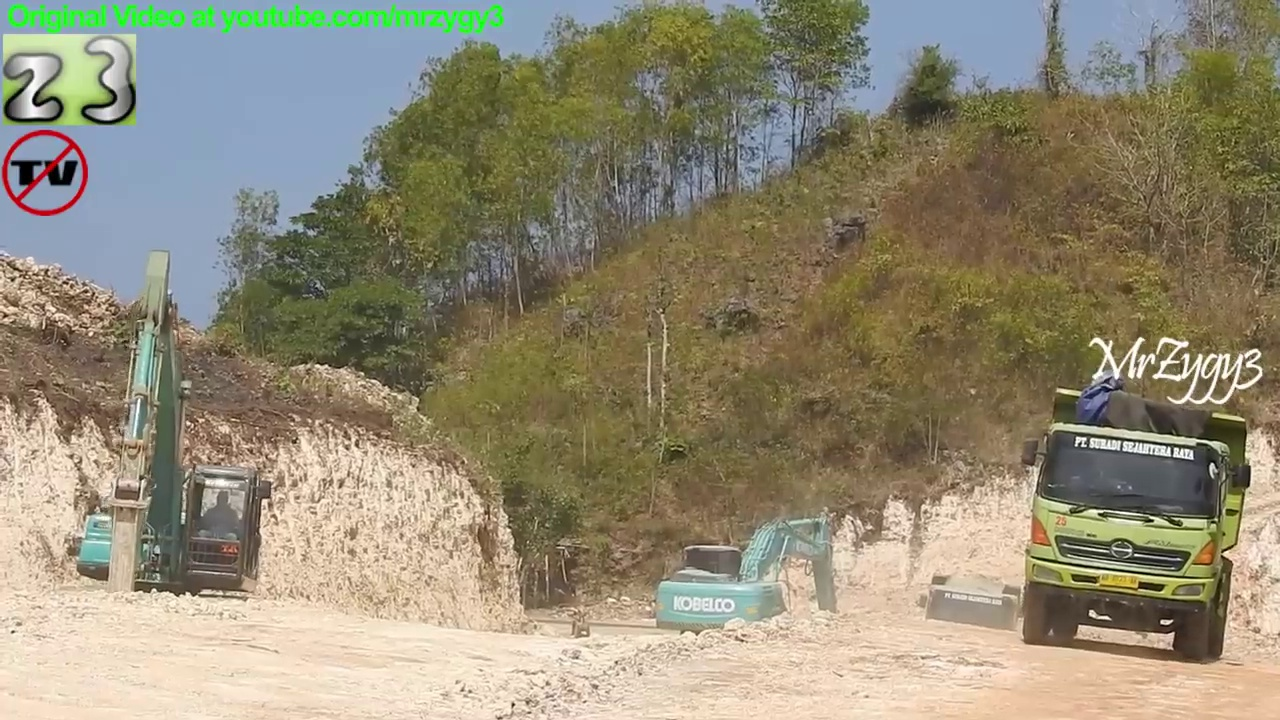excavator: (69, 245, 274, 645), (650, 502, 848, 668)
truck: (1012, 378, 1258, 669), (912, 568, 1029, 685)
